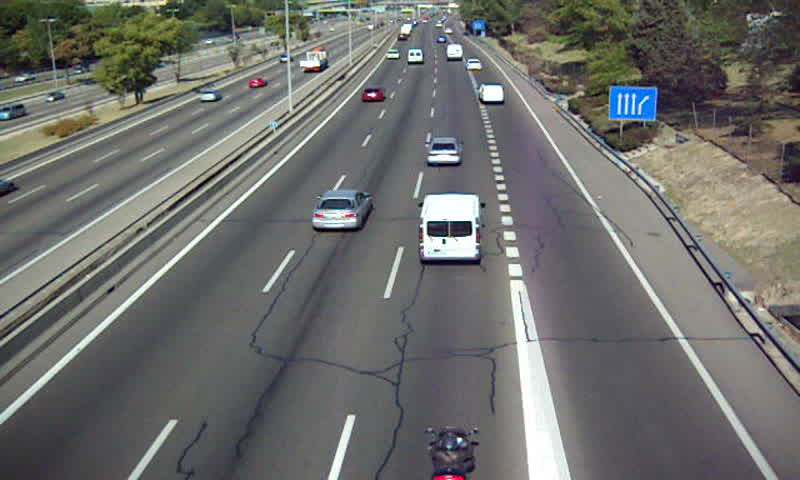car: (313, 190, 372, 228), (425, 138, 463, 167), (362, 86, 386, 101), (466, 58, 483, 71)
motorcycle: (429, 425, 474, 480)
van: (419, 194, 482, 262), (478, 82, 504, 104), (406, 48, 424, 64)
